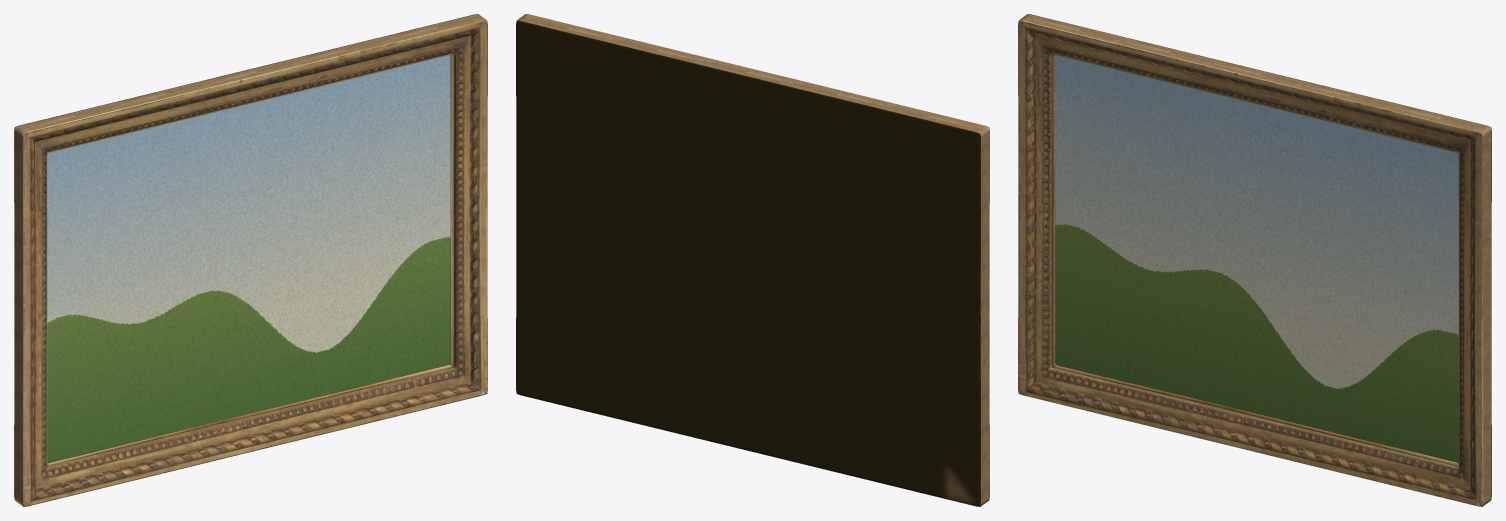
File: marco_clasico.glb
3 renders of one model, left to right at view 1: azimuth 30°, elevation 25°; view 2: azimuth 150°, elevation 25°; view 3: azimuth 330°, elevation 25°, orthographic.
Parts seen in each view (by area): view 1: marco_clasico; view 2: marco_clasico; view 3: marco_clasico.
Part boxes in pixels (<box>): marco_clasico: <box>14,14,487,506</box>; marco_clasico: <box>516,14,989,506</box>; marco_clasico: <box>1018,14,1491,506</box>.
Size of the model in its own units: 0.603 by 0.4641 by 0.02.
2 materials, 2 textured.
